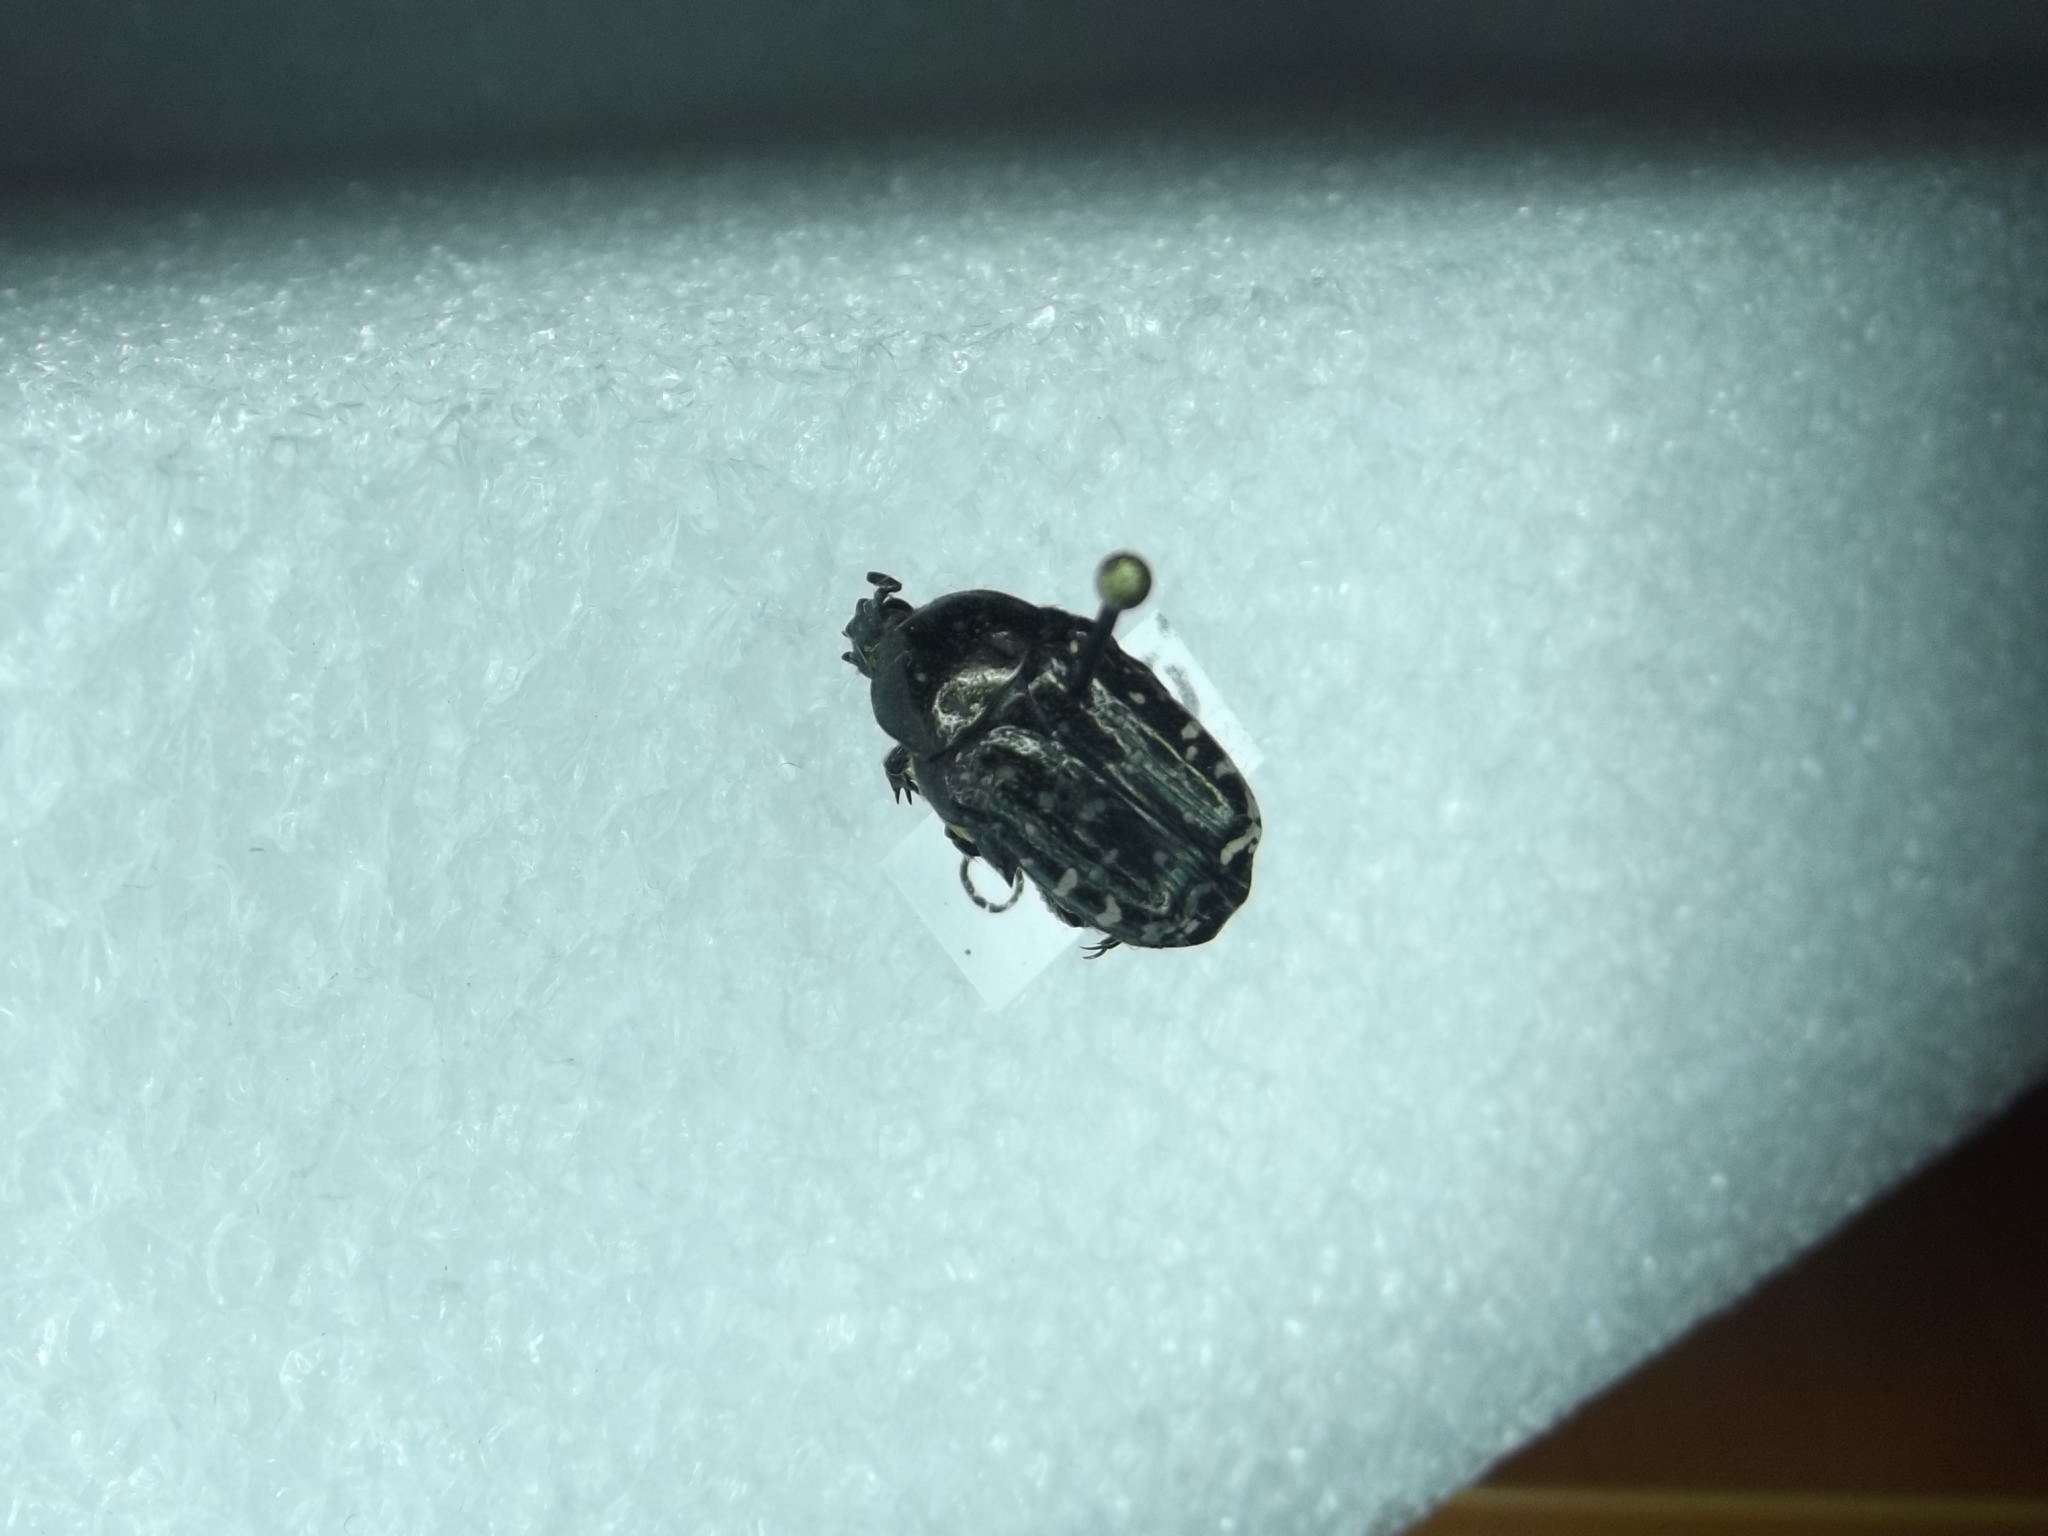Oxythyrea_albopicta: (798, 557, 1285, 984)
